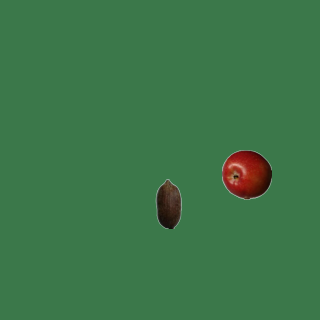Apple Braeburn: (221, 149, 271, 199)
Nut Pecan: (143, 178, 193, 228)
